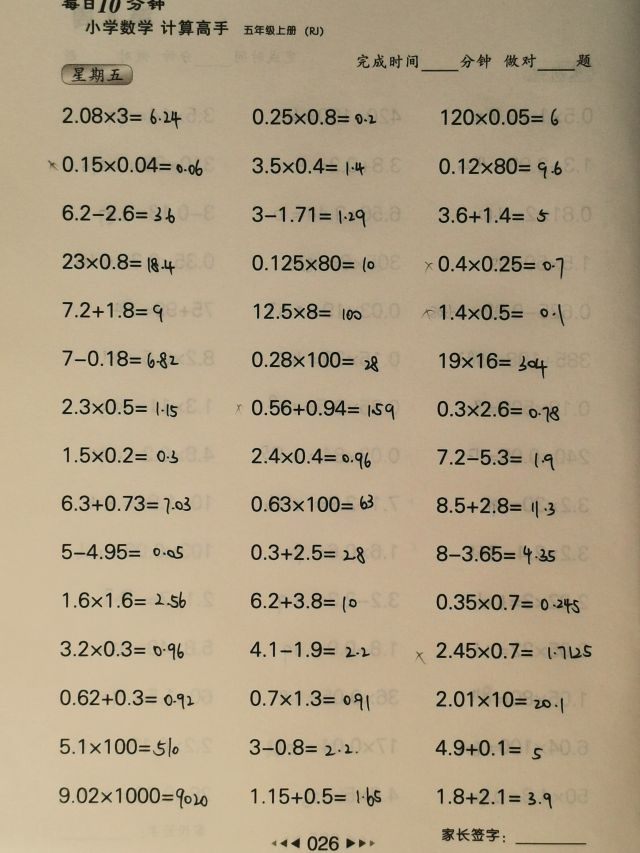equation: (431, 637, 596, 664), (54, 782, 211, 810), (233, 395, 398, 421), (59, 151, 206, 179), (431, 589, 583, 615), (431, 300, 567, 329), (246, 345, 382, 373), (434, 151, 565, 180), (247, 783, 385, 810), (434, 250, 566, 278), (55, 685, 197, 711), (435, 785, 556, 815), (432, 687, 569, 713), (57, 490, 194, 516), (57, 635, 188, 662), (432, 396, 563, 423), (57, 734, 183, 761), (433, 444, 558, 471), (59, 248, 178, 276), (432, 541, 559, 567), (247, 444, 374, 470), (249, 104, 381, 129), (432, 493, 558, 519), (437, 104, 563, 130), (246, 490, 377, 515), (247, 250, 378, 275), (245, 586, 361, 614), (435, 348, 550, 376), (245, 686, 373, 711), (58, 104, 185, 129), (246, 540, 368, 566), (58, 393, 180, 419), (59, 345, 181, 371), (247, 202, 369, 228), (247, 152, 368, 178), (58, 540, 188, 564), (58, 200, 178, 226), (246, 638, 374, 662), (60, 442, 181, 467), (431, 735, 546, 761), (60, 588, 190, 611), (245, 734, 362, 759), (59, 296, 165, 323), (435, 203, 554, 227), (249, 299, 365, 323)
